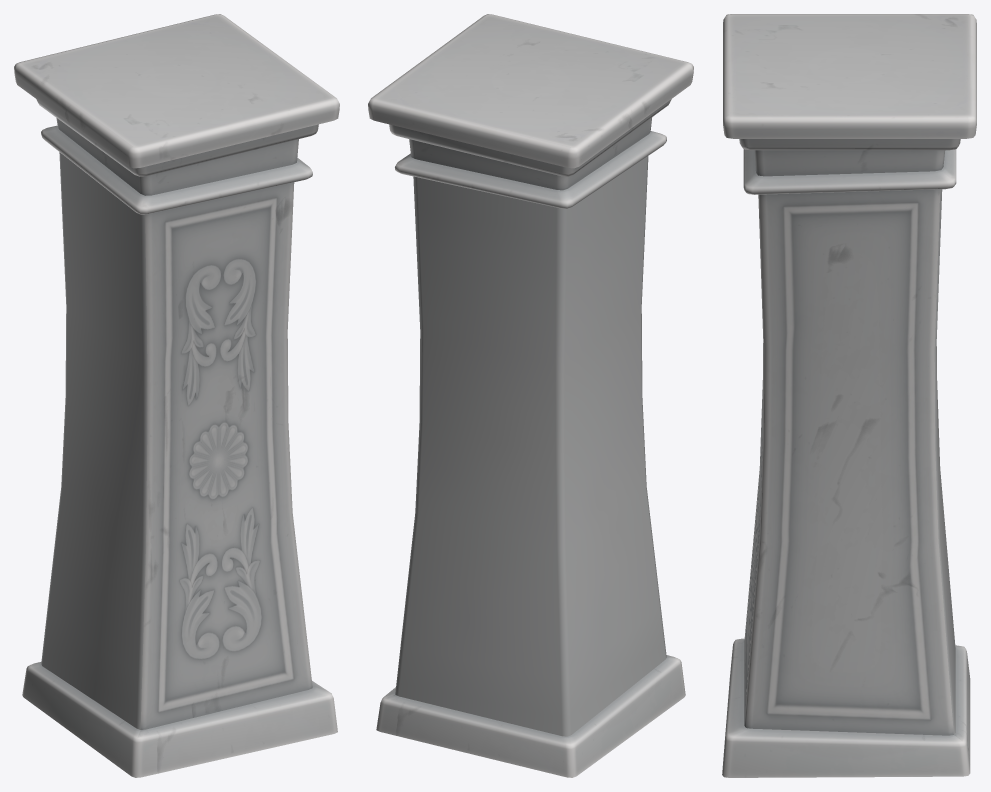
File: ParkPedestal02_2.FBX
3 renders of one model, left to right at view 1: azimuth 30°, elevation 25°; view 2: azimuth 150°, elevation 25°; view 3: azimuth 270°, elevation 25°, orthographic. The views are drawn at different scales.
Parts seen in each view (by area): view 1: ParkPedestal02_2; view 2: ParkPedestal02_2; view 3: ParkPedestal02_2.
Part boxes in pixels (x1,y1,x2,y2): ParkPedestal02_2: [14, 14, 339, 777]; ParkPedestal02_2: [368, 14, 693, 777]; ParkPedestal02_2: [722, 14, 976, 777].
Size of what is drawn, in the model's own units: 0.6968 by 2 by 0.6995.
